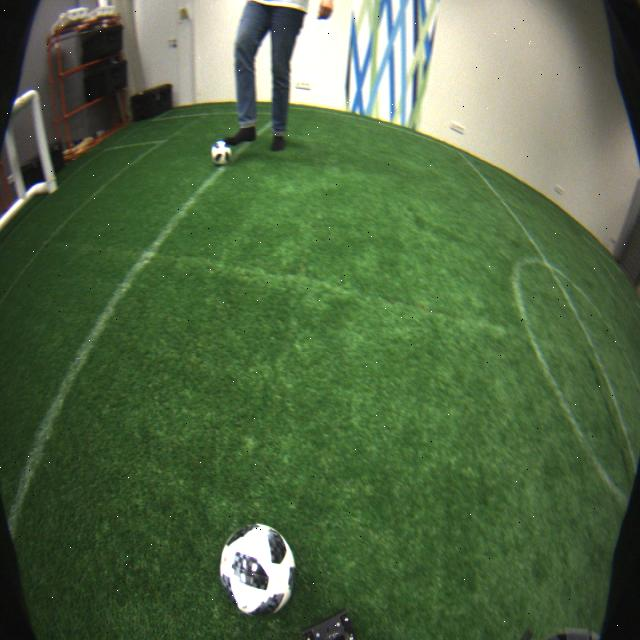ball: (218, 523, 294, 618), (210, 140, 232, 166)
goalpost: (22, 88, 59, 195)
